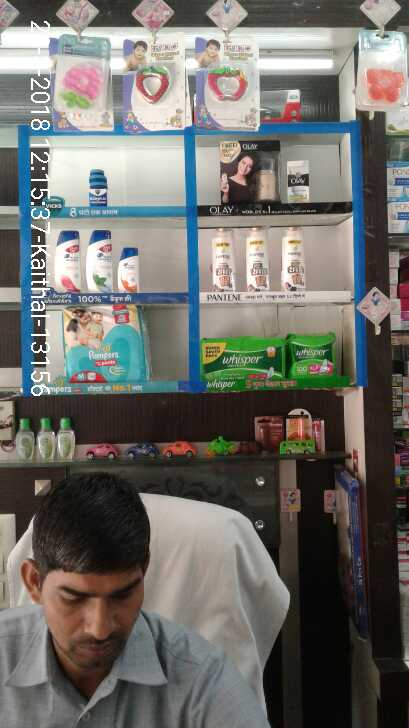vicks: (84, 165, 112, 209)
